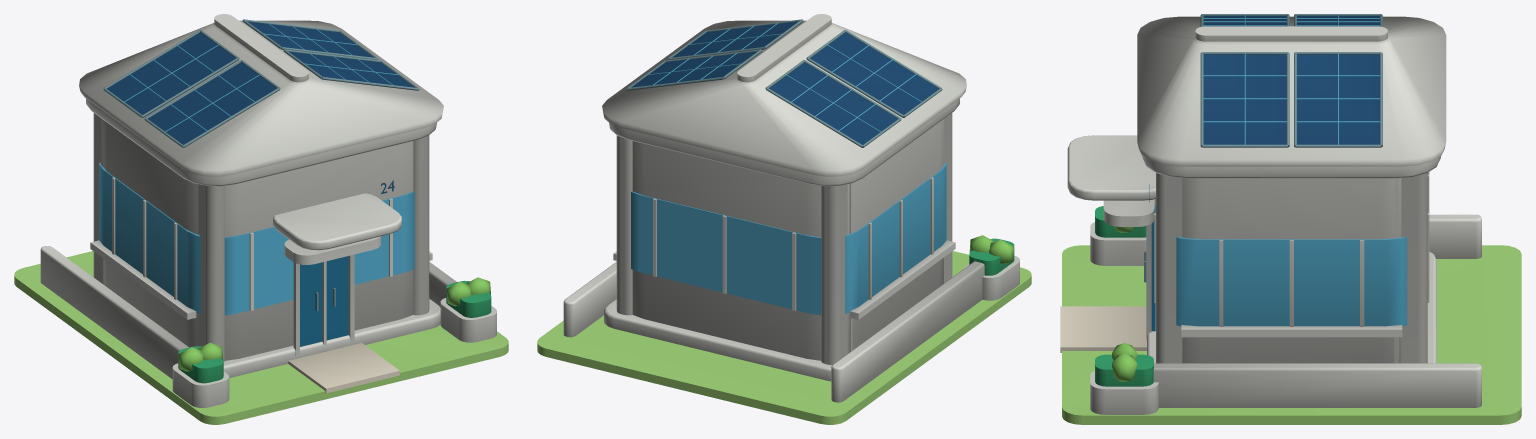
Rendered from house-solar-low.glb.
The picture shows the model from 3 angles, left to right: view 1: azimuth 30°, elevation 25°; view 2: azimuth 150°, elevation 25°; view 3: azimuth 270°, elevation 25°; orthographic projection. The views are drawn at different scales.
Parts seen in each view (by area): view 1: house footing, continuous blue glazing, residential garden, inset solar roof module, solar module frame, recessed entrance, front walk, planter foliage, shrub tip; view 2: house footing, continuous blue glazing, residential garden, inset solar roof module, solar module frame, shrub tip, planter foliage; view 3: house footing, residential garden, continuous blue glazing, inset solar roof module, front walk, solar module frame, planter foliage, shrub tip, recessed entrance.
Part boxes in pixels (x1=…): house footing: x1=40, y1=14, x2=496, y2=407; continuous blue glazing: x1=99, y1=23, x2=414, y2=315; residential garden: x1=14, y1=251, x2=508, y2=424; inset solar roof module: x1=107, y1=21, x2=414, y2=144; solar module frame: x1=103, y1=19, x2=419, y2=310; recessed entrance: x1=300, y1=256, x2=348, y2=346; front walk: x1=288, y1=343, x2=399, y2=393; planter foliage: x1=178, y1=280, x2=491, y2=383; shrub tip: x1=178, y1=277, x2=490, y2=371; house footing: x1=563, y1=14, x2=1019, y2=402; continuous blue glazing: x1=631, y1=23, x2=946, y2=315; residential garden: x1=537, y1=251, x2=1031, y2=424; inset solar roof module: x1=631, y1=21, x2=938, y2=144; solar module frame: x1=626, y1=19, x2=942, y2=147; shrub tip: x1=969, y1=235, x2=1013, y2=263; planter foliage: x1=969, y1=238, x2=1014, y2=275; house footing: x1=1067, y1=16, x2=1481, y2=414; residential garden: x1=1062, y1=245, x2=1521, y2=424; continuous blue glazing: x1=1176, y1=14, x2=1407, y2=326; inset solar roof module: x1=1203, y1=15, x2=1379, y2=144; front walk: x1=1060, y1=306, x2=1146, y2=352; solar module frame: x1=1144, y1=14, x2=1382, y2=282; planter foliage: x1=1095, y1=206, x2=1153, y2=386; shrub tip: x1=1112, y1=226, x2=1137, y2=381; recessed entrance: x1=1151, y1=205, x2=1155, y2=331.
Size of the model in its own units: 2.73 by 2.28 by 3.09.
